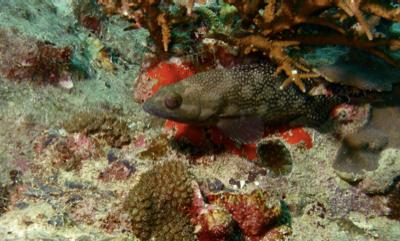Serranidae -Groupers-: (142, 61, 348, 146)
